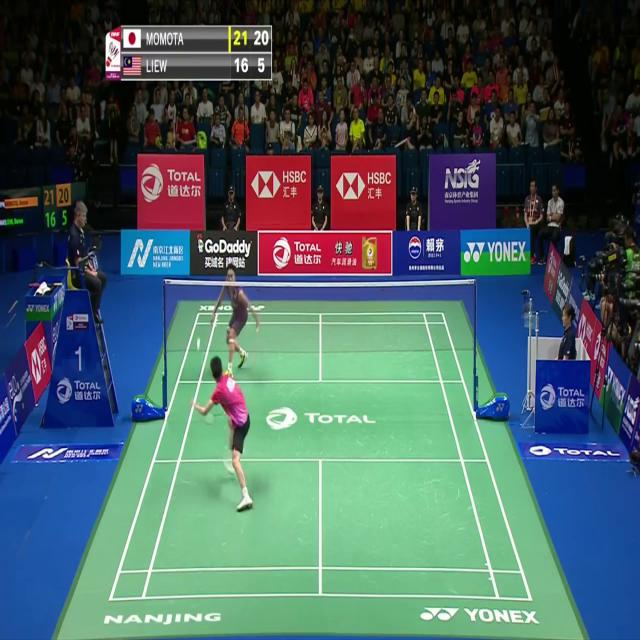Shuttlecock: (195, 337, 201, 349)
